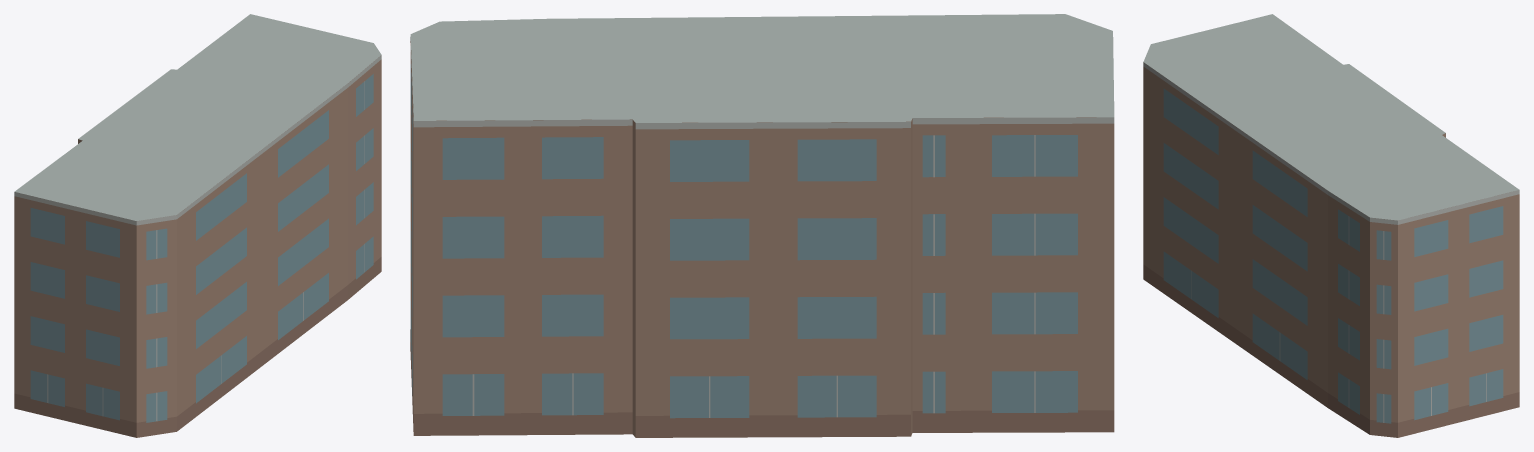
The model's file is survey-upis-32762780.glb.
The picture shows the model from 3 angles, left to right: view 1: azimuth 30°, elevation 25°; view 2: azimuth 150°, elevation 25°; view 3: azimuth 270°, elevation 25°; orthographic projection. The views are drawn at different scales.
Parts seen in each view (by area): view 1: survey-upis-32762780.tmp; view 2: survey-upis-32762780.tmp; view 3: survey-upis-32762780.tmp.
Part boxes in pixels (x1,y1,x2,y2): survey-upis-32762780.tmp: [14, 14, 381, 437]; survey-upis-32762780.tmp: [410, 14, 1114, 437]; survey-upis-32762780.tmp: [1143, 14, 1519, 437].
Size of the model in its own units: 24.66 by 12.1 by 18.99.
